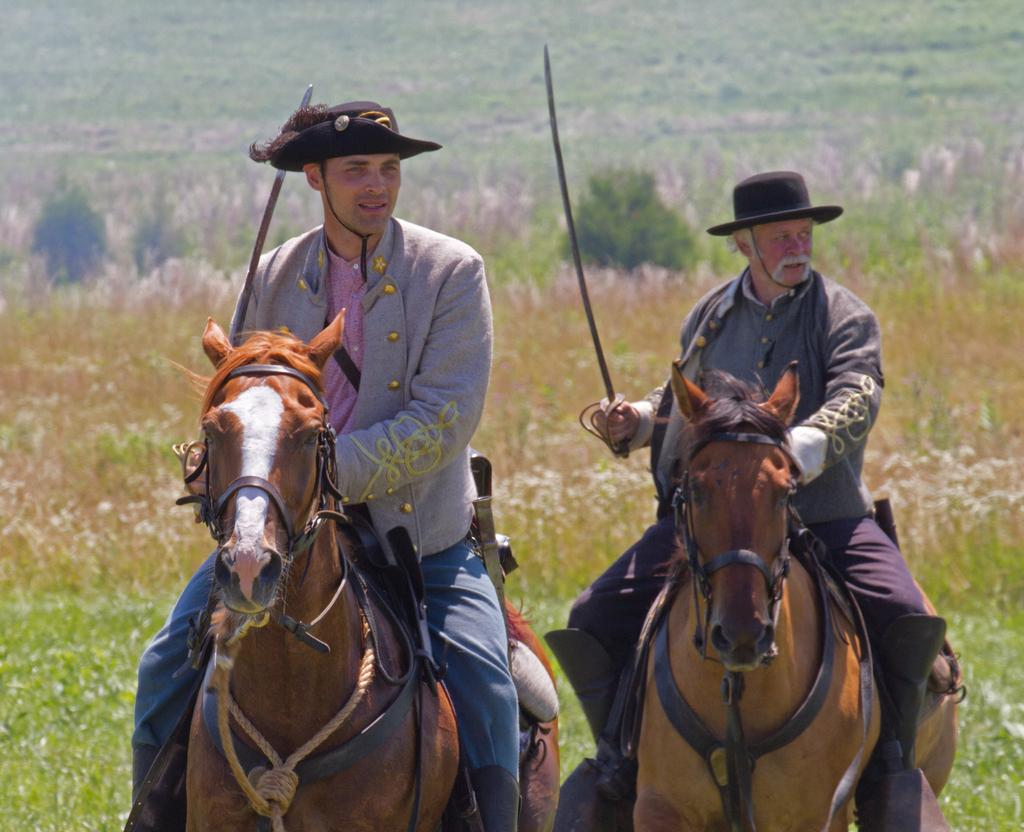Hat: (248, 98, 444, 282), (706, 170, 844, 289)
